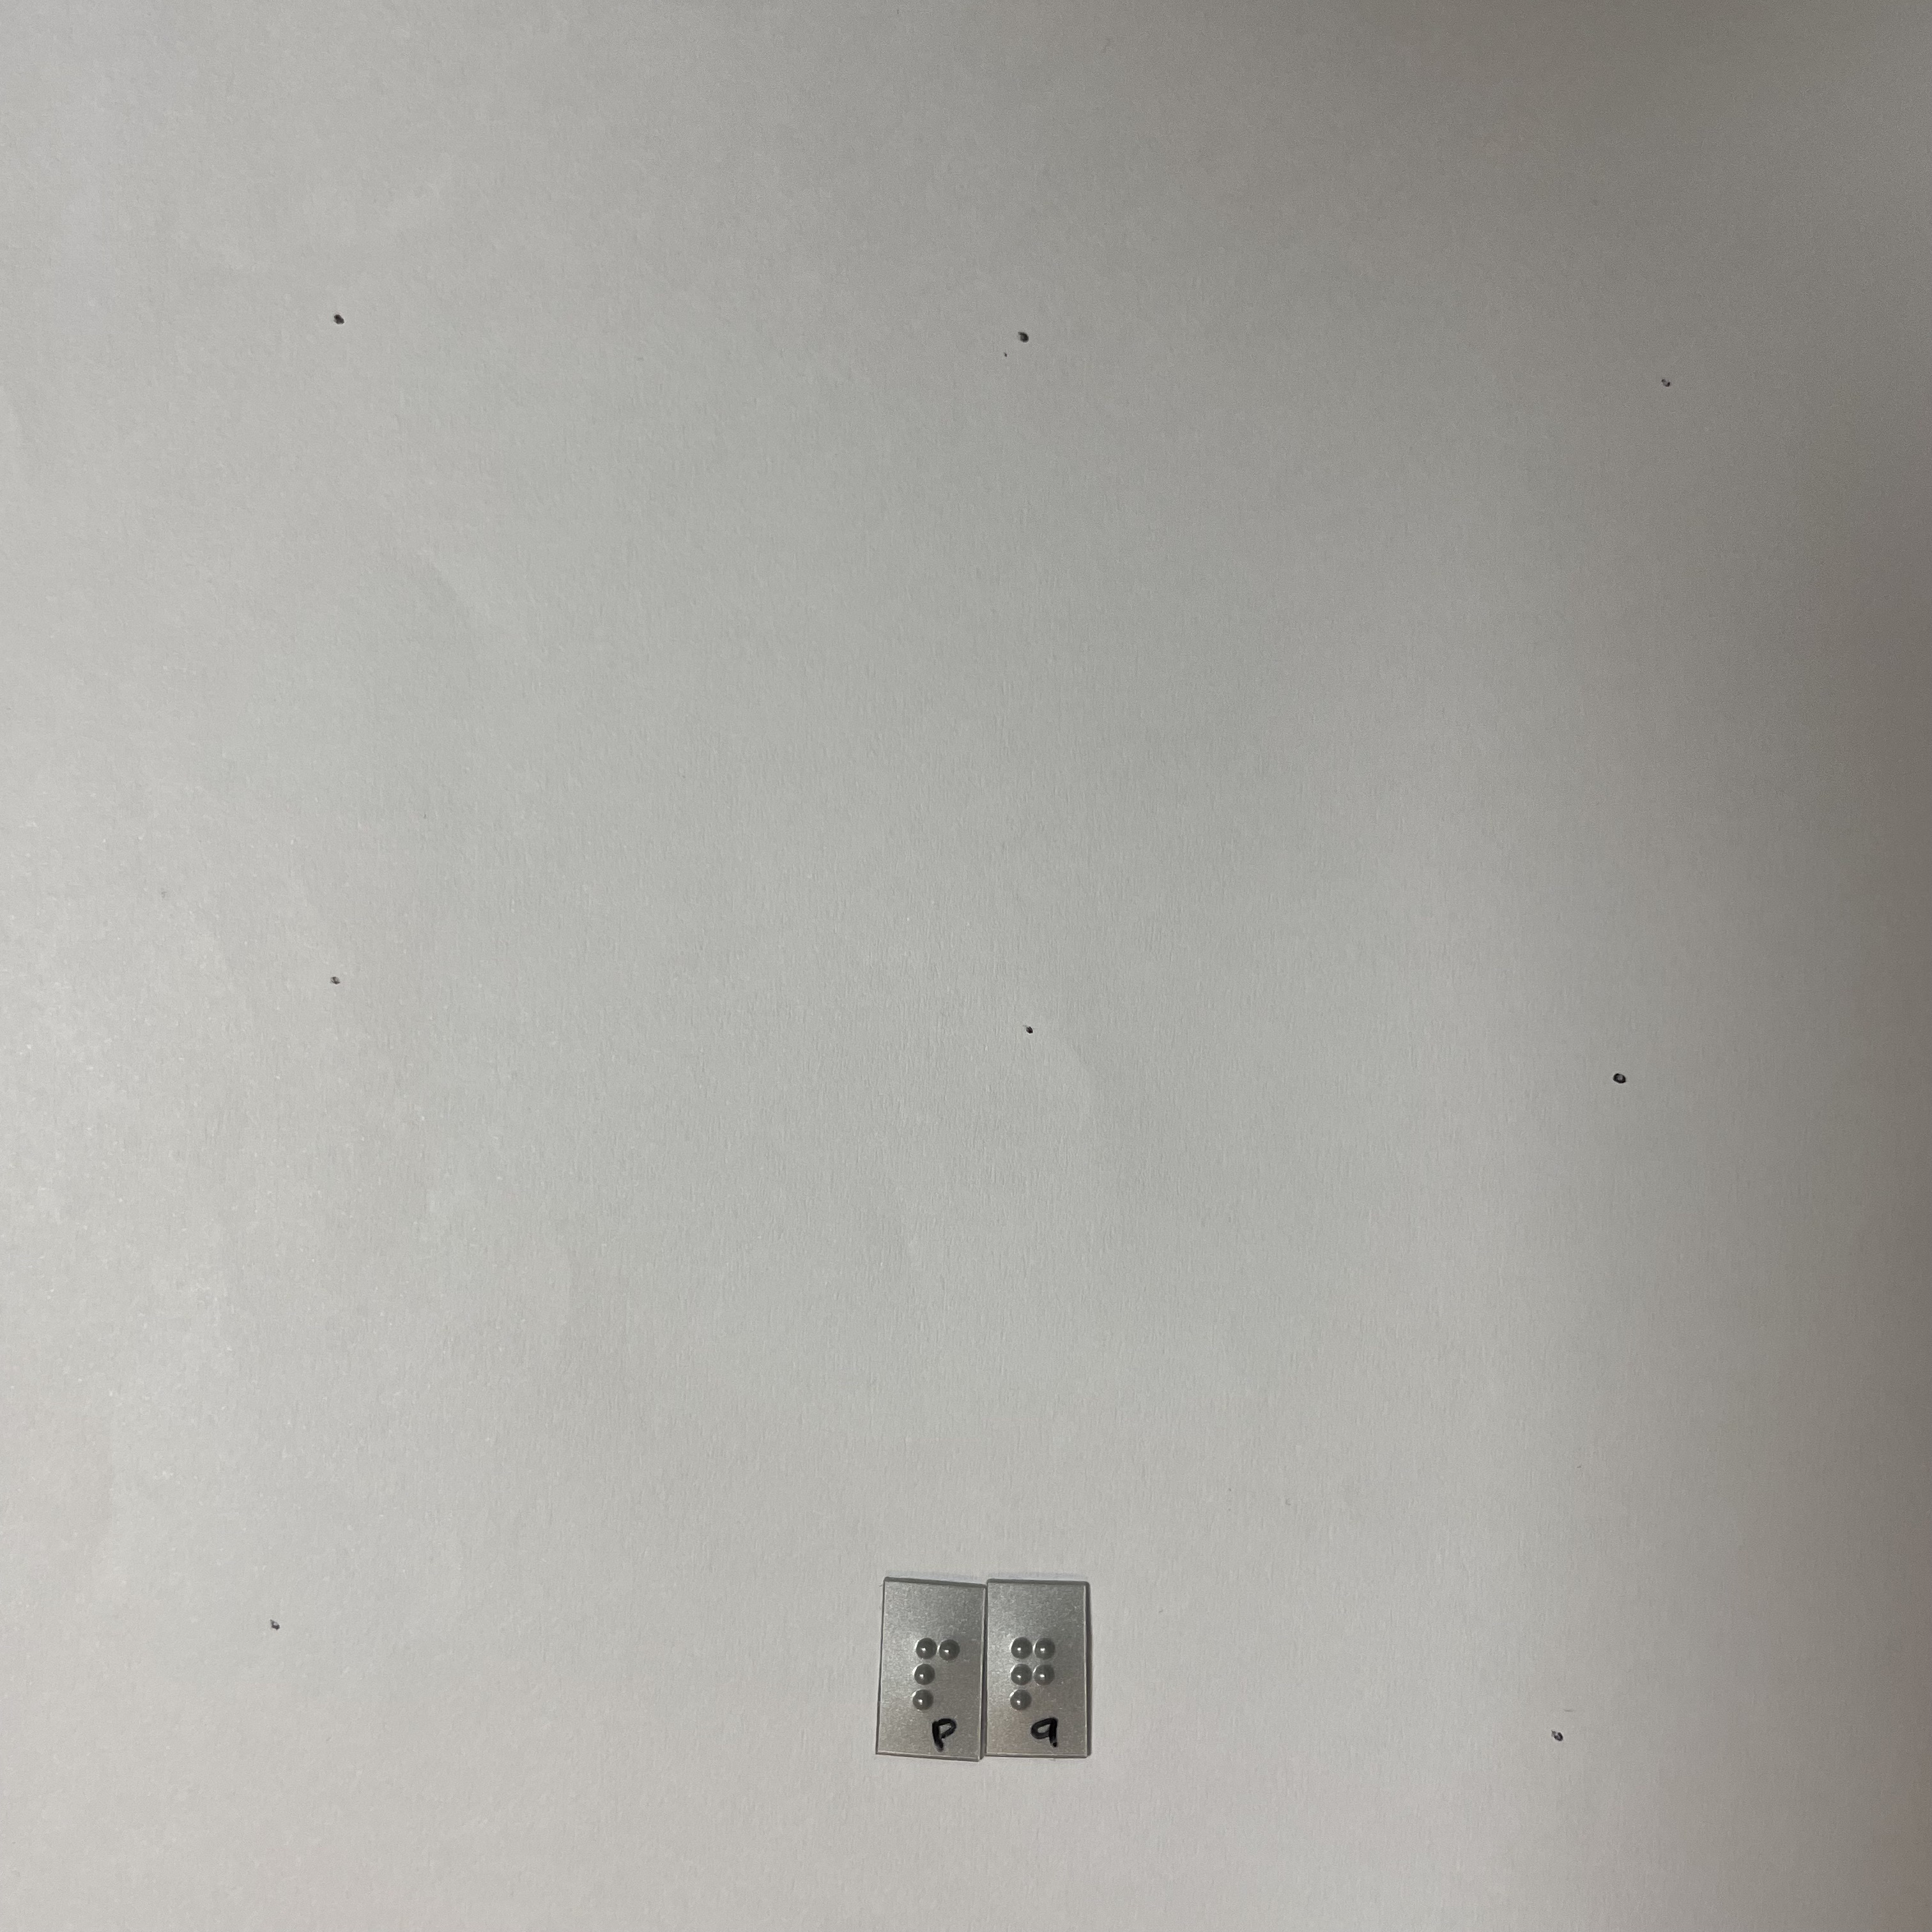p: (907, 1629, 970, 1713)
q: (1006, 1626, 1062, 1718)
